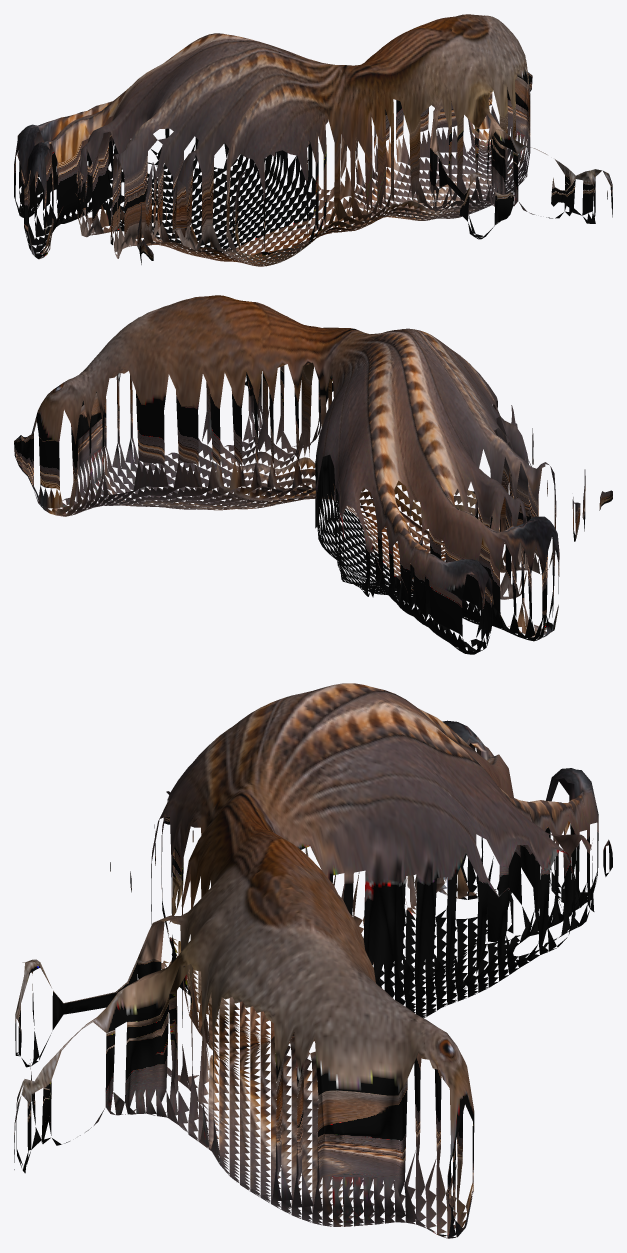
The model's file is lyrebird.glb.
3 views of the same model, one above another, from view 1: azimuth 30°, elevation 25°; view 2: azimuth 150°, elevation 25°; view 3: azimuth 270°, elevation 25° (orthographic). The views are drawn at different scales.
Parts seen in each view (by area): view 1: lyrebird_obj; view 2: lyrebird_obj; view 3: lyrebird_obj.
Part boxes in pixels (left/top/right/bottom): lyrebird_obj: left=14, top=14, right=612, bottom=266; lyrebird_obj: left=14, top=295, right=612, bottom=654; lyrebird_obj: left=14, top=683, right=612, bottom=1238.
Bounding box in the file's own units: 1.85 × 0.7813 × 1.2.
Materials: 1 (1 with a texture image).
